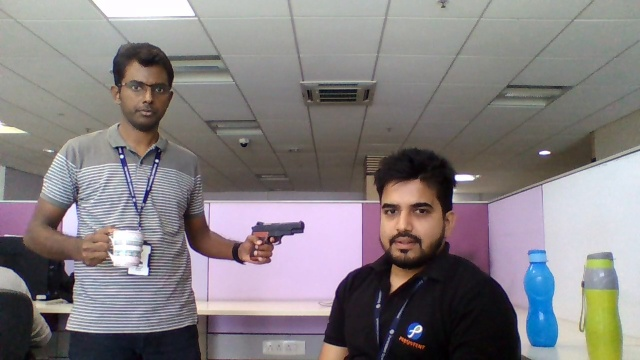gun: (251, 220, 304, 235)
